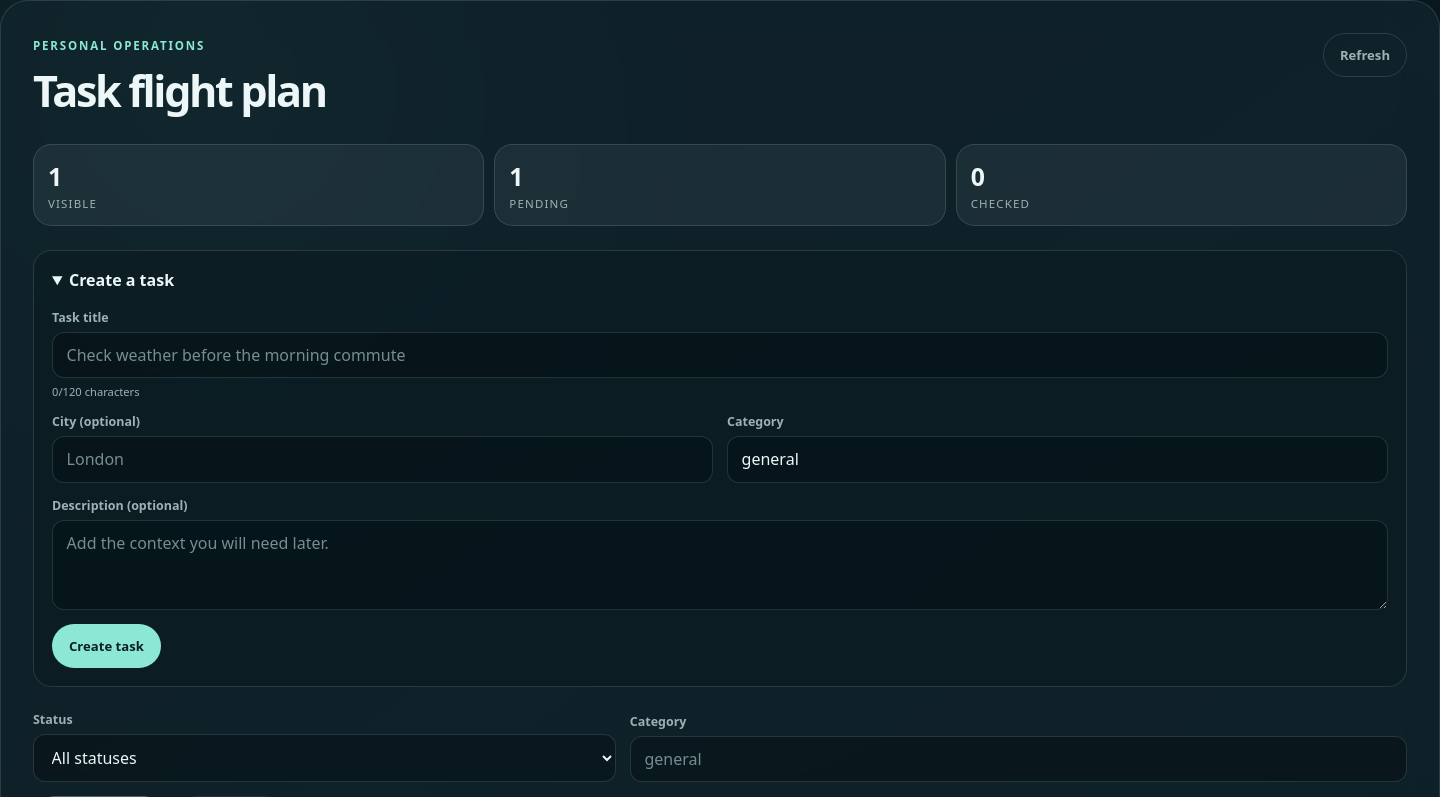
Test case: task workspace › sends the category filter and supports an empty filtered state
The image size is (1440, 797).
Type "daily" into the 2nd field labelled "Category" at {"x": 1018, "y": 759}, box [630,736,1407,782]
(page scrolled)
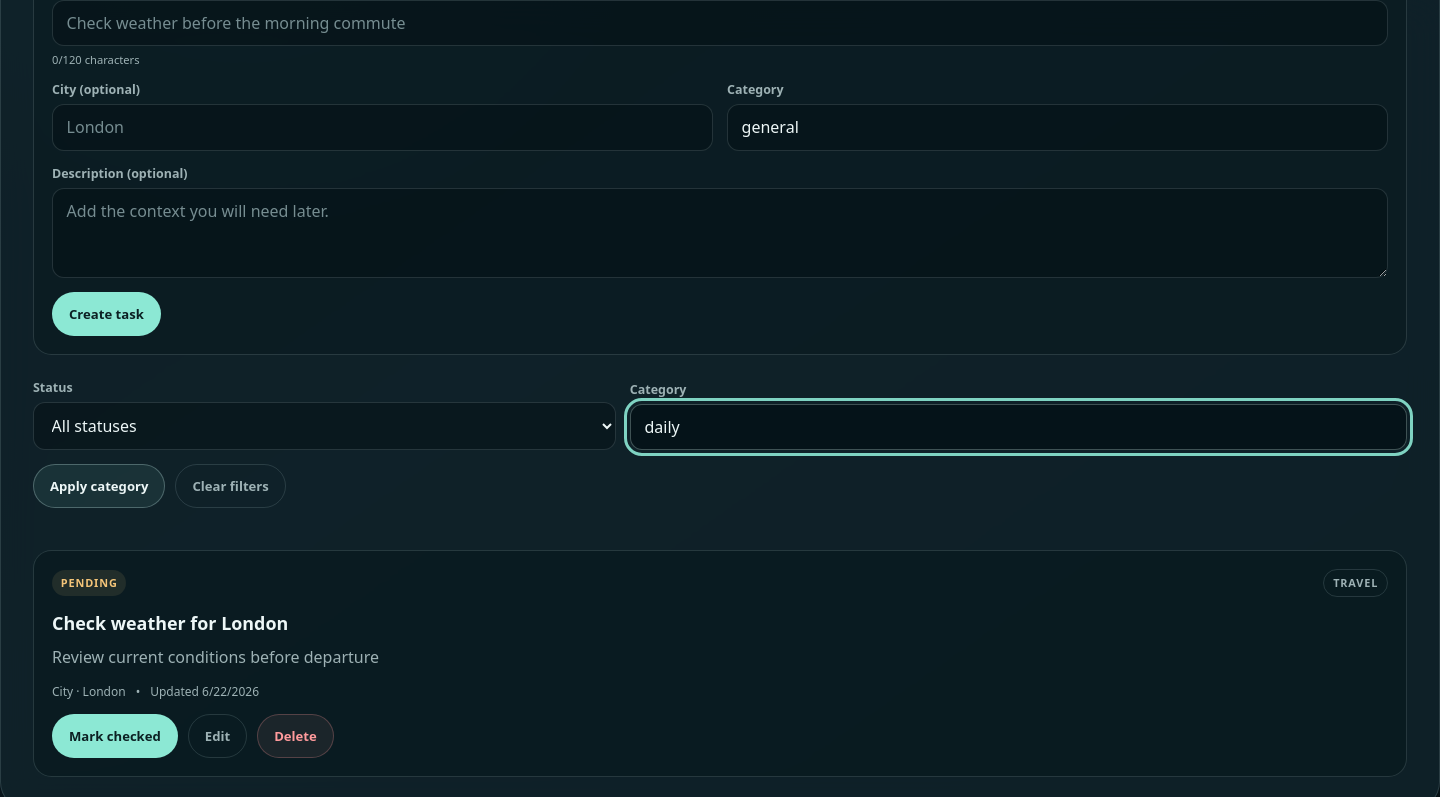
Click the button "Apply category" at {"x": 99, "y": 486}, box [33,464,165,508]
(page scrolled)
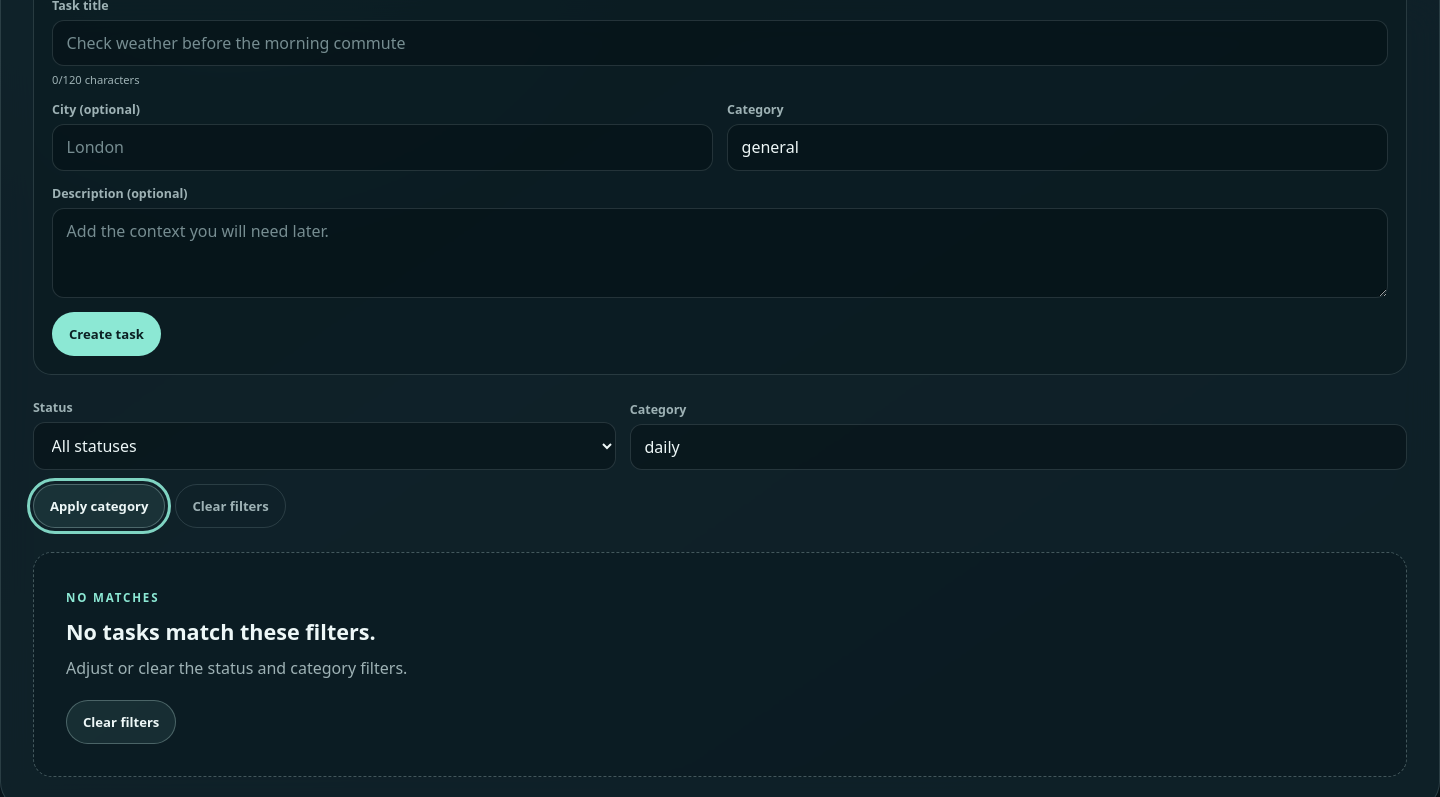
Check: the heading "No tasks match these filters." is shown, box [66,617,376,646]
Check: the number of buttons "Clear filters" is 2, box [175,484,286,528]; [66,700,176,744]
